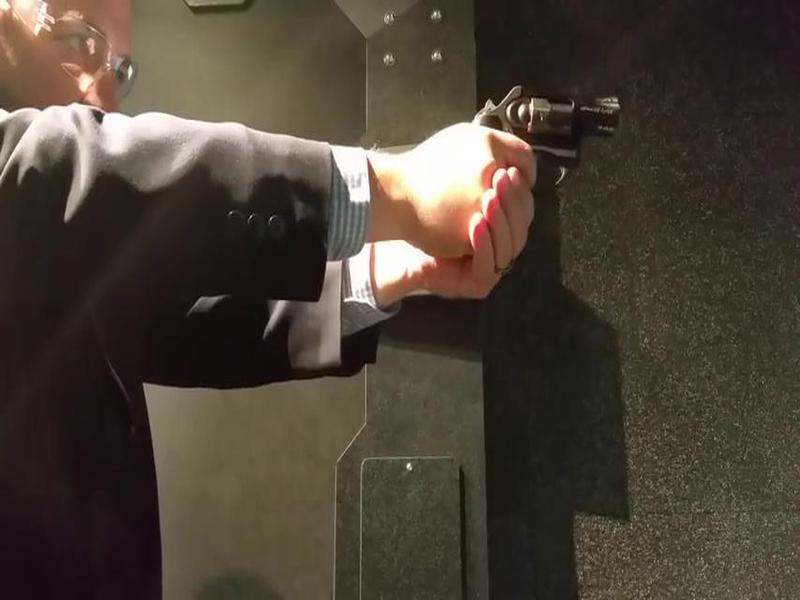Revolver: (463, 79, 631, 194)
